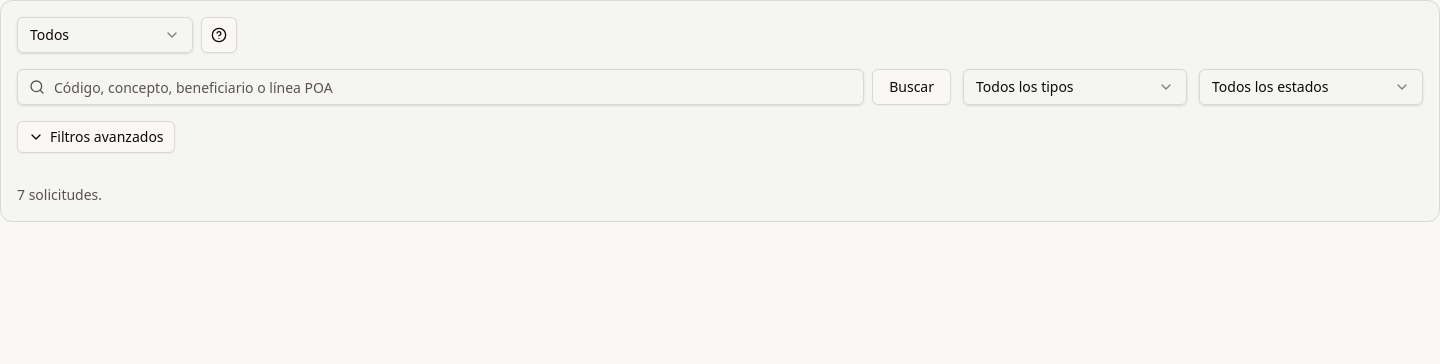
Test: RequestReviewFilters › muestra etiquetas legibles al seleccionar tipo y estado sin errores de React y permite limpiar
Click the dropdown named "Tipo de solicitud" at (1075, 87), box top-left (963, 69), bottom-right (1187, 105)
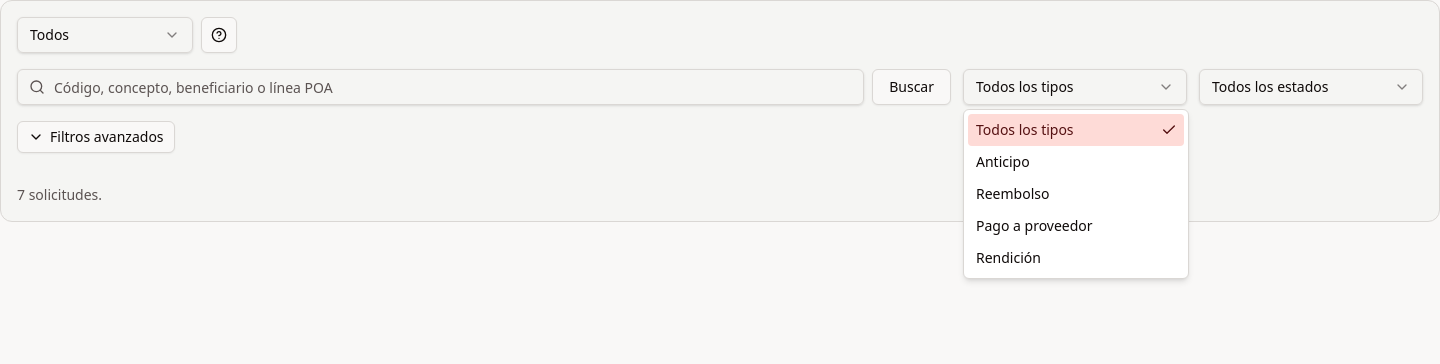
Click the option "Reembolso" at (1013, 194), box top-left (976, 184), bottom-right (1050, 203)
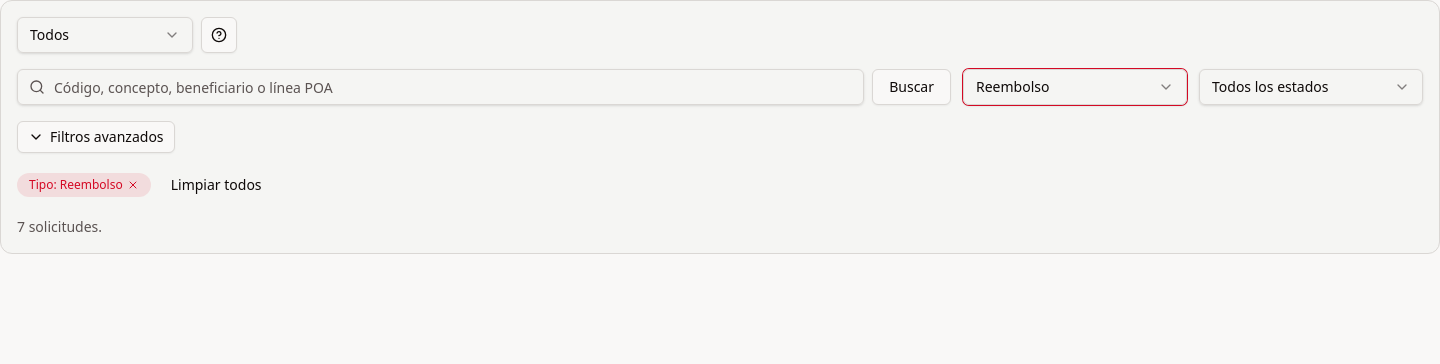
Result: the dropdown named "Tipo de solicitud" reads "Reembolso" at top-left (963, 69), bottom-right (1187, 105)
Click the dropdown named "Estado de solicitud" at (1311, 87), box top-left (1199, 69), bottom-right (1423, 105)
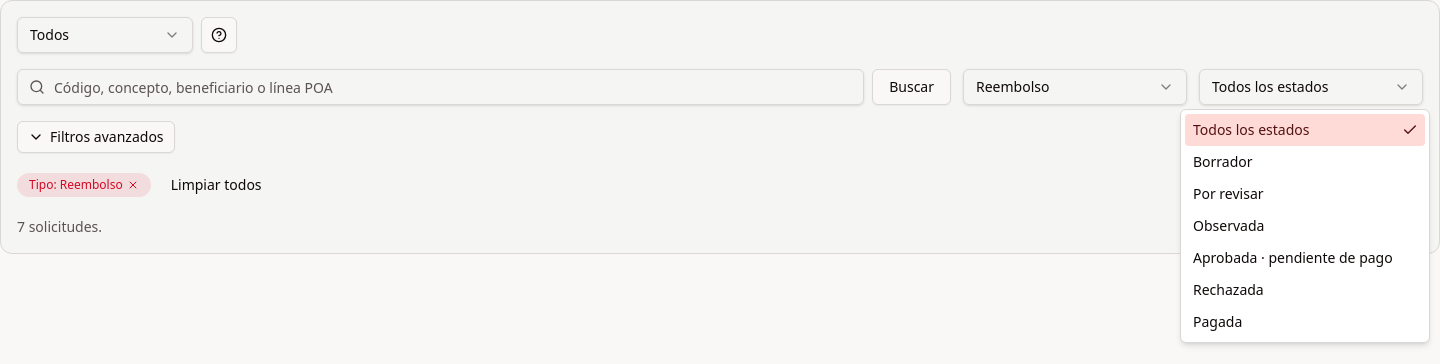
Click the option "Por revisar" at (1228, 194), box top-left (1193, 184), bottom-right (1264, 203)
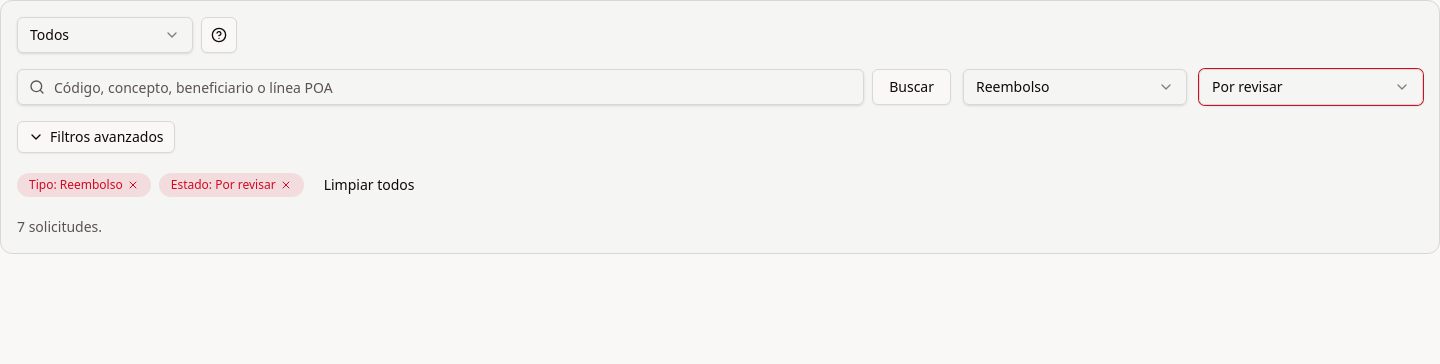
Result: the dropdown named "Estado de solicitud" reads "Por revisar" at top-left (1199, 69), bottom-right (1423, 105)
Click the button with aria-label "Limpiar todos los filtros" at (369, 185), box top-left (312, 169), bottom-right (427, 201)
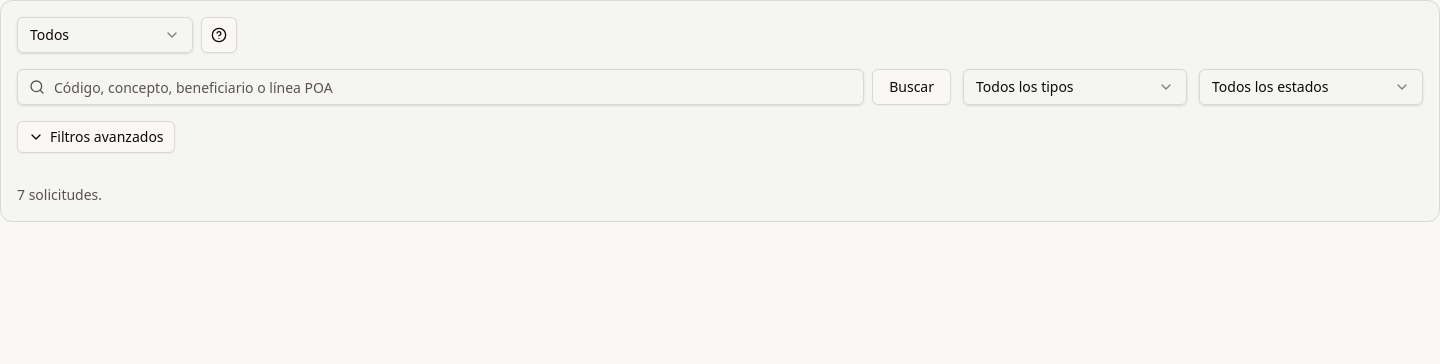
Result: the dropdown named "Tipo de solicitud" reads "Todos los tipos" at top-left (963, 69), bottom-right (1187, 105)
Result: the dropdown named "Estado de solicitud" reads "Todos los estados" at top-left (1199, 69), bottom-right (1423, 105)
